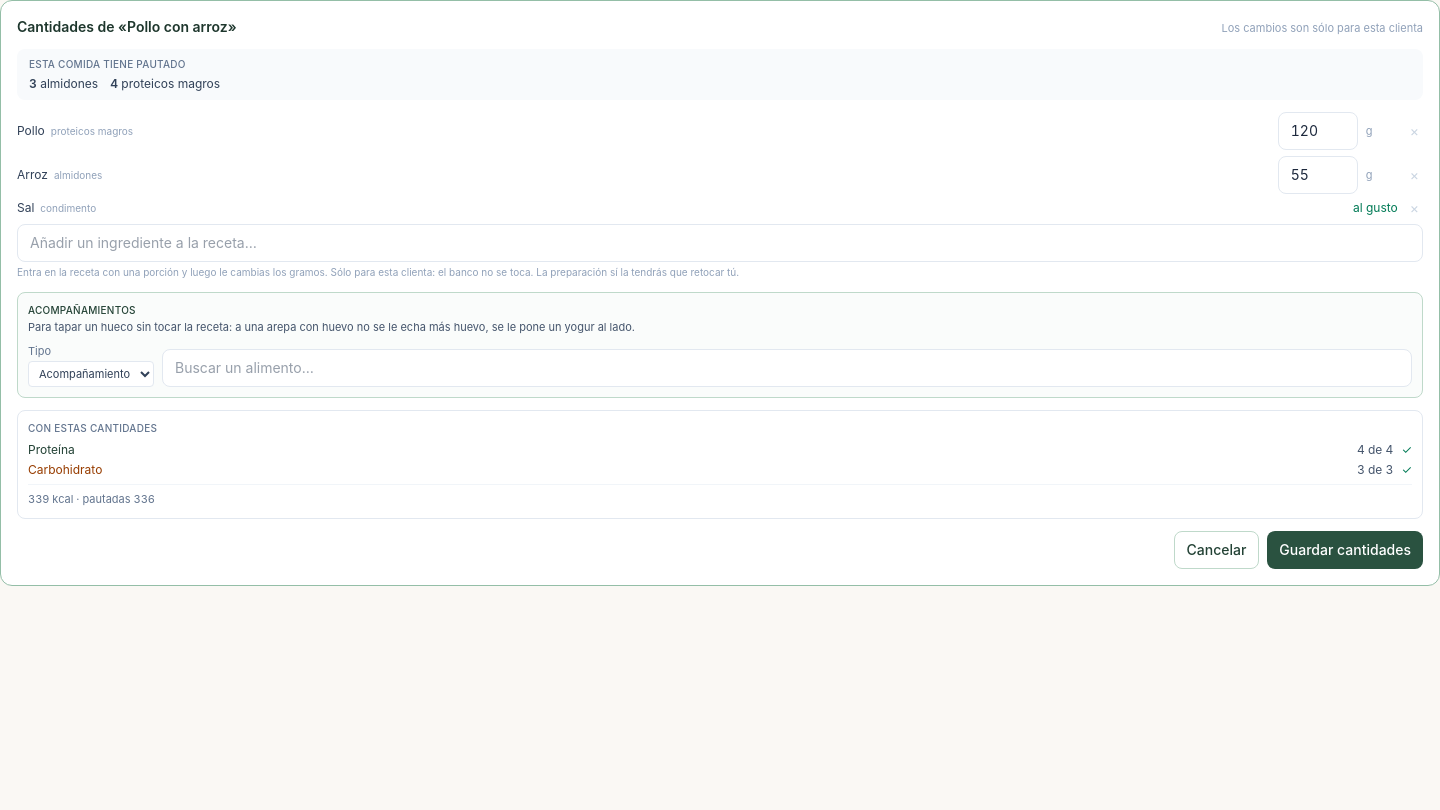
Test: Cambiar una cantidad › los macros se recalculan con lo escrito, no con lo pautado
The image size is (1440, 810).
// Bajar el pollo a la mitad tiene que dejar la proteína corta.
Replace the text in the 1st number field showing "120" with "60": (1318, 131) [1278, 112, 1358, 150]
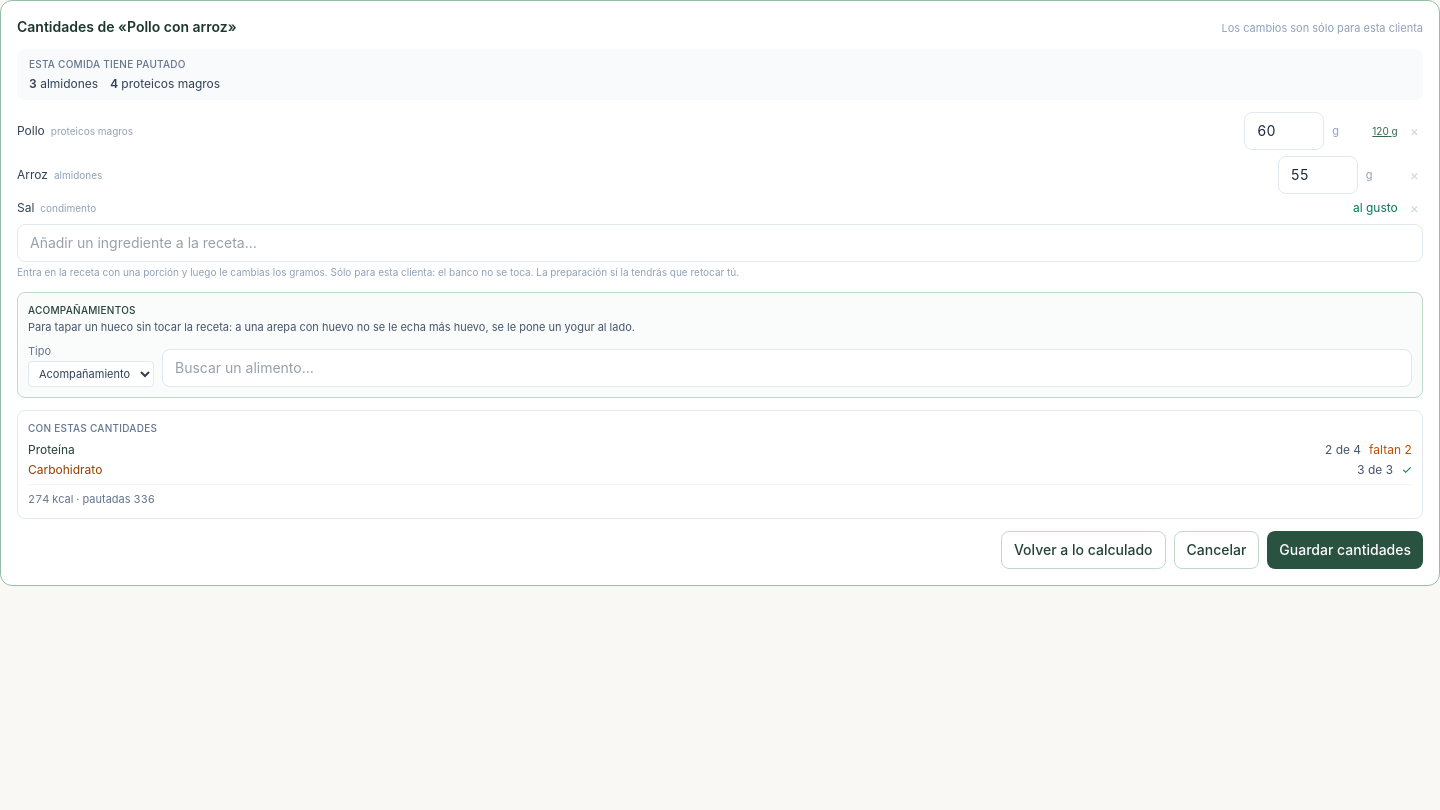
Expected: the text "faltan 2" is shown, [1369, 442, 1412, 457]
